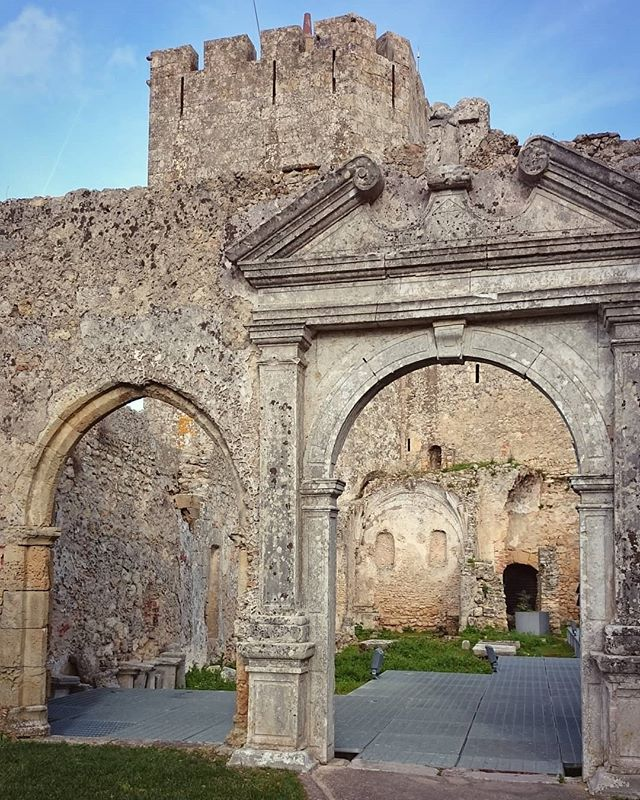building: (1, 50, 640, 752)
sky: (1, 1, 148, 186), (446, 1, 640, 107)
